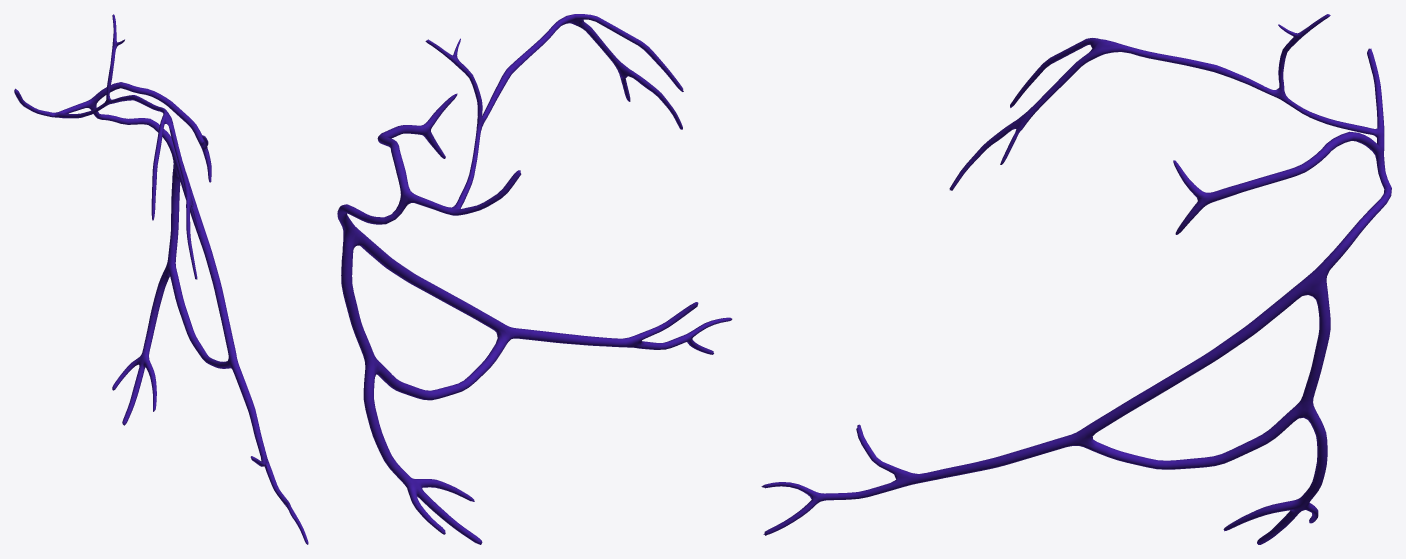
The model's file is CN VII - Facial Nerve.glb.
The picture shows the model from 3 angles, left to right: view 1: azimuth 30°, elevation 25°; view 2: azimuth 150°, elevation 25°; view 3: azimuth 270°, elevation 25°; orthographic projection. The views are drawn at different scales.
Visible parts, largest first — view 1: CN VII - Facial Nerve.glb; view 2: CN VII - Facial Nerve.glb; view 3: CN VII - Facial Nerve.glb.
Boxes of the visible parts, x1,y1,x2,y2 form: CN VII - Facial Nerve.glb: (14, 14, 308, 544); CN VII - Facial Nerve.glb: (337, 14, 732, 544); CN VII - Facial Nerve.glb: (761, 14, 1391, 544).
Bounding box in the file's own units: 0.1305 × 0.3262 × 0.345.
Materials: 1 (1 with a texture image).
